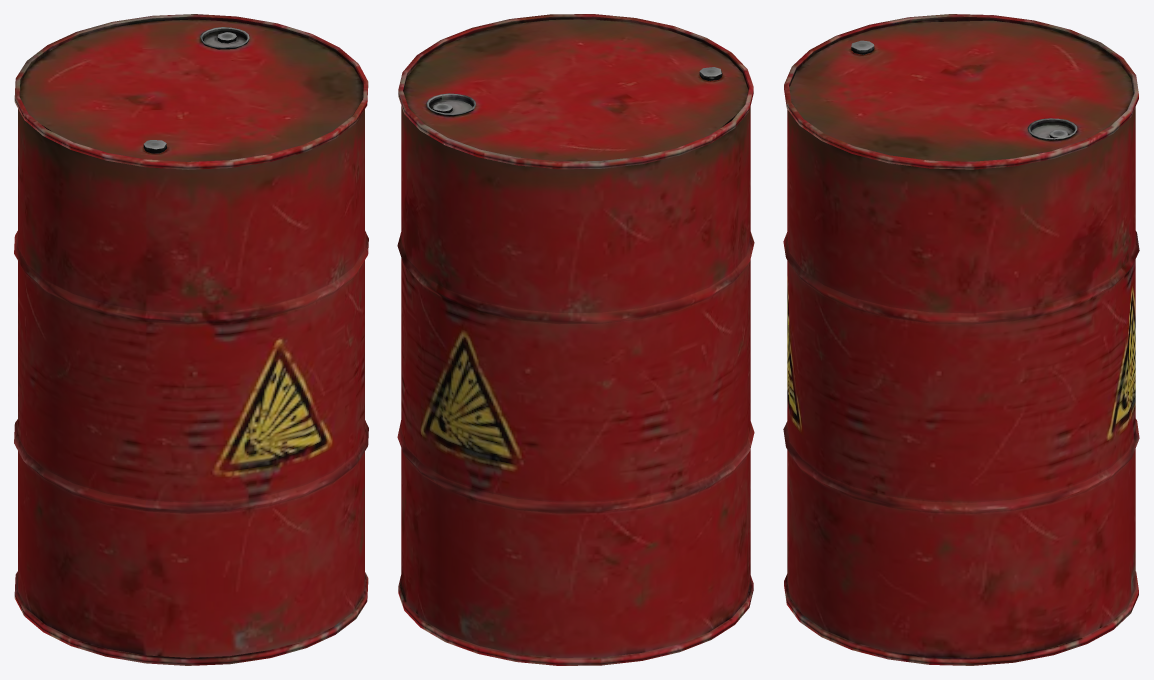
File: Barrel_01.glb
The picture shows the model from 3 angles, left to right: view 1: azimuth 30°, elevation 25°; view 2: azimuth 150°, elevation 25°; view 3: azimuth 270°, elevation 25°; orthographic projection.
Parts seen in each view (by area): view 1: Barrel_01; view 2: Barrel_01; view 3: Barrel_01.
Boxes of the visible parts, left/top/right/bottom form: Barrel_01: left=14, top=14, right=368, bottom=665; Barrel_01: left=397, top=14, right=754, bottom=665; Barrel_01: left=783, top=14, right=1139, bottom=665.
Bounding box in the file's own units: 0.5627 × 0.8789 × 0.5627.
Materials: 1 (1 with a texture image).
